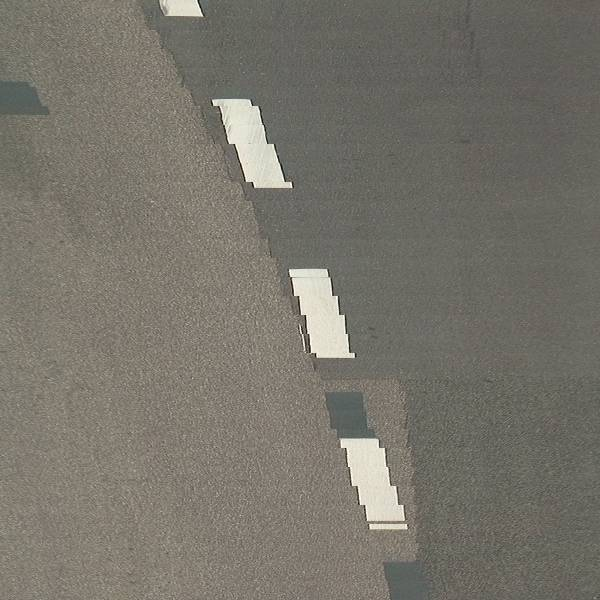road_damage: (159, 27, 270, 259)
